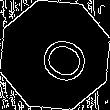O_NW: (23, 24, 87, 86)
